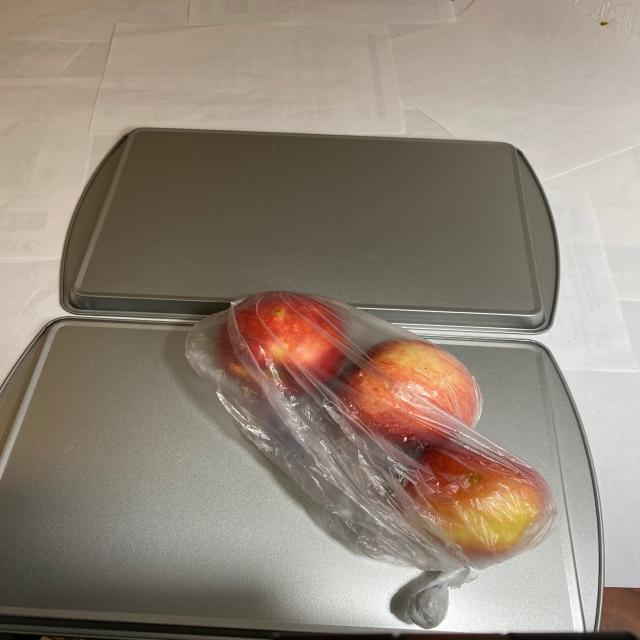apple: (200, 286, 560, 576)
